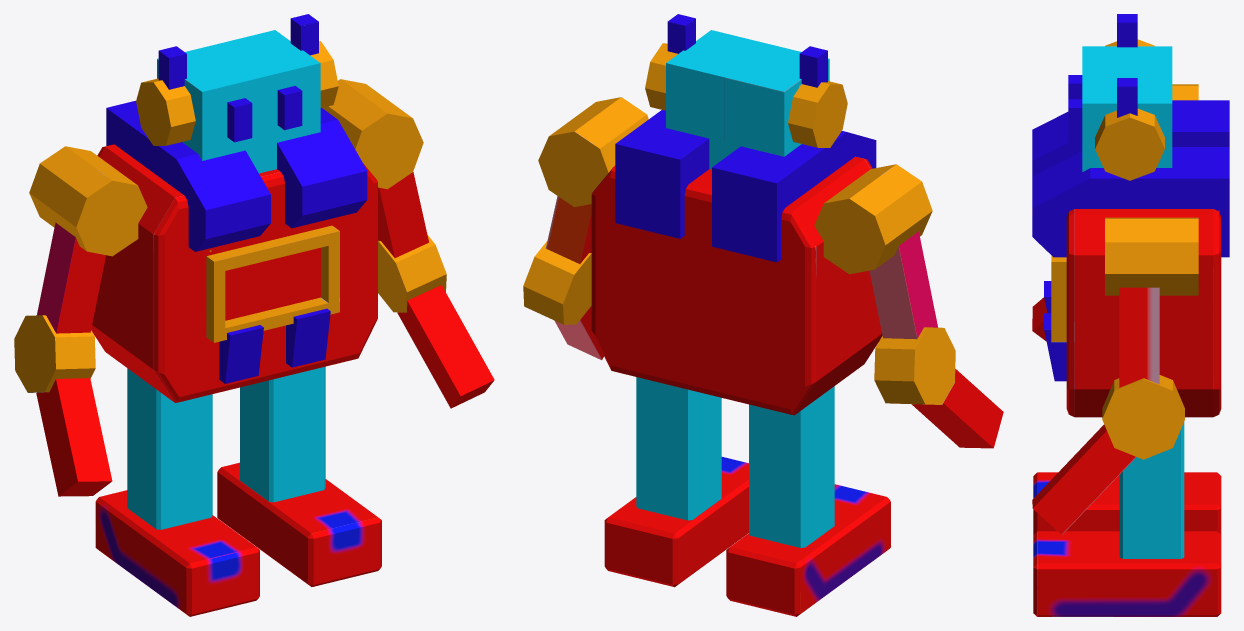
Rendered from robot.fbx.
The picture shows the model from 3 angles, left to right: view 1: azimuth 30°, elevation 25°; view 2: azimuth 150°, elevation 25°; view 3: azimuth 270°, elevation 25°; orthographic projection.
Parts seen in each view (by area): view 1: Plane.022, Plane.020, Plane.021, Plane.027, Cylinder.013, Plane.028, Plane.026, Plane.025, Cylinder.014, Plane.023, Plane.024, Cylinder.015 (+2 smaller); view 2: Plane.022, Plane.021, Plane.020, Plane.027, Cylinder.013, Plane.028, Cylinder.014, Plane.025, Plane.026, Cylinder.015, Plane.029; view 3: Plane.022, Plane.020, Plane.027, Cylinder.013, Plane.028, Plane.021, Plane.026, Cylinder.014, Cylinder.015, Plane.025, Plane.029, Plane.023 (+2 smaller).
Boxes of the visible parts, x1,y1,x2,y2 form: Plane.022: (91,144,377,402); Plane.020: (95,462,381,616); Plane.021: (127,366,325,529); Plane.027: (106,100,367,251); Cylinder.013: (29,79,423,256); Plane.028: (157,30,320,173); Plane.026: (36,285,494,496); Plane.025: (37,172,428,333); Cylinder.014: (14,235,446,392); Plane.023: (206,225,339,342); Plane.024: (219,308,330,383); Cylinder.015: (136,41,338,145); Plane.022: (591,156,882,415); Plane.021: (636,377,834,547); Plane.020: (604,456,890,616); Plane.027: (615,110,876,262); Cylinder.013: (538,97,932,274); Plane.028: (666,30,829,169); Cylinder.014: (523,241,955,404); Plane.025: (546,196,937,339); Plane.026: (554,306,1003,448); Cylinder.015: (645,43,847,147); Plane.029: (667,14,827,87); Plane.022: (1066,209,1221,417); Plane.020: (1033,472,1221,616); Plane.027: (1032,100,1229,257); Cylinder.013: (1105,84,1198,295); Plane.028: (1082,46,1172,171); Plane.021: (1119,422,1184,558); Plane.026: (1032,297,1135,534); Cylinder.014: (1102,375,1184,459); Cylinder.015: (1095,39,1164,180); Plane.025: (1119,287,1159,387); Plane.029: (1117,14,1137,117); Plane.023: (1051,255,1066,342).
Size of the model in its own units: 519 by 611 by 210.
1 material, 1 textured.
